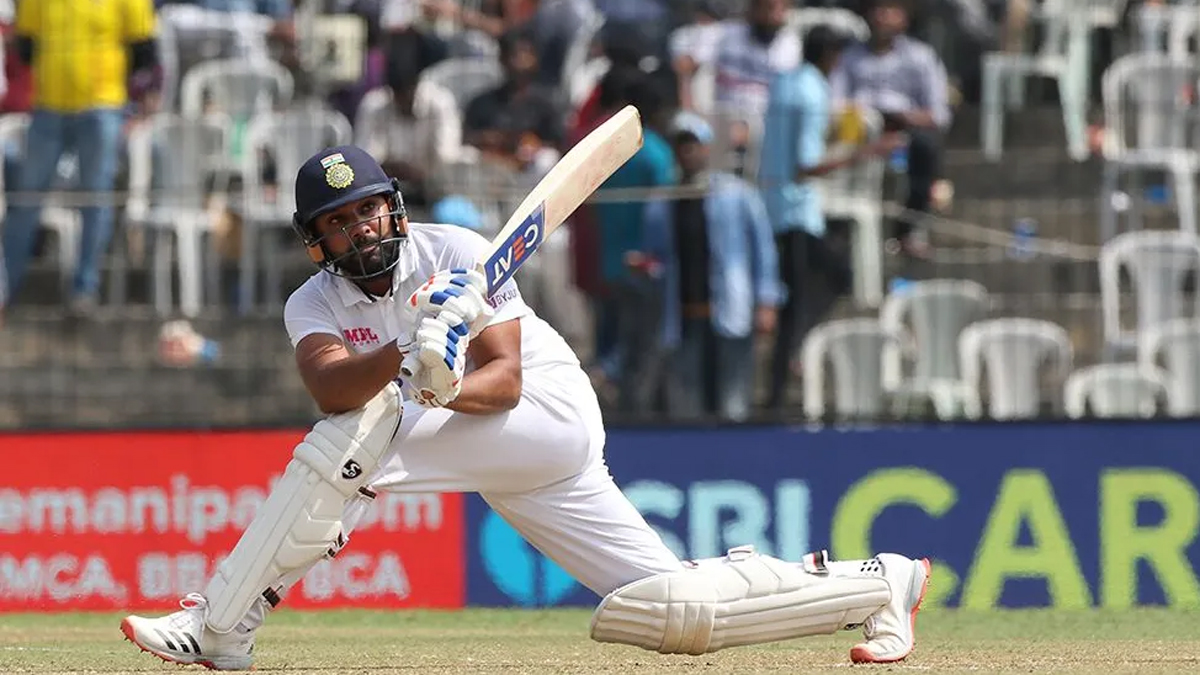Sweepshot: (75, 7, 986, 675)
